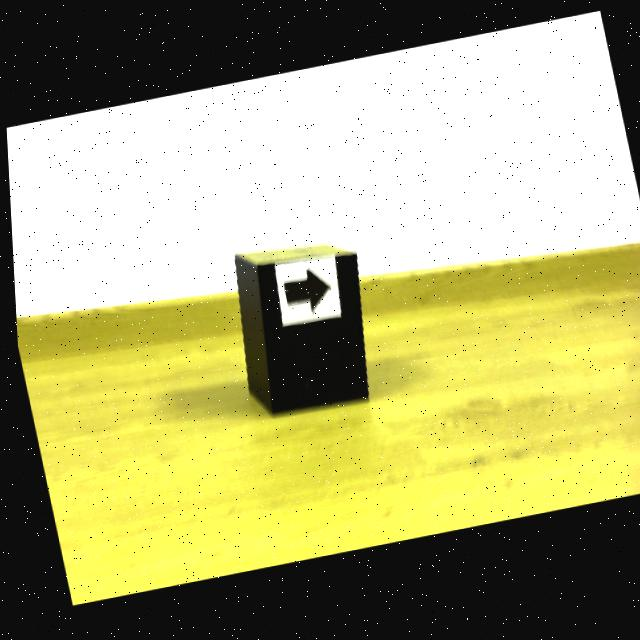RIGHT: (281, 272, 326, 314)
